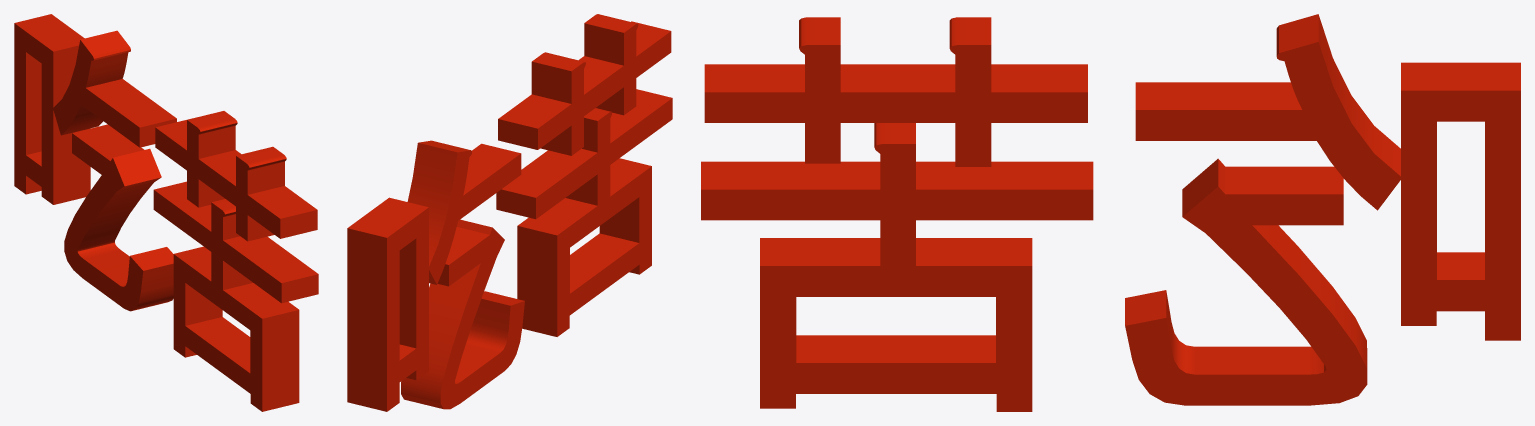
The model's file is chi ku duvar plate.fbx.
The picture shows the model from 3 angles, left to right: view 1: azimuth 30°, elevation 25°; view 2: azimuth 150°, elevation 25°; view 3: azimuth 270°, elevation 25°; orthographic projection. The views are drawn at different scales.
Parts seen in each view (by area): view 1: typeMesh1; view 2: typeMesh1; view 3: typeMesh1.
Boxes of the visible parts, left/top/right/bottom form: typeMesh1: left=14, top=14, right=318, bottom=411; typeMesh1: left=347, top=14, right=672, bottom=411; typeMesh1: left=701, top=14, right=1520, bottom=411.
Bounding box in the file's own units: 0.8496 × 5.26 × 10.57.
